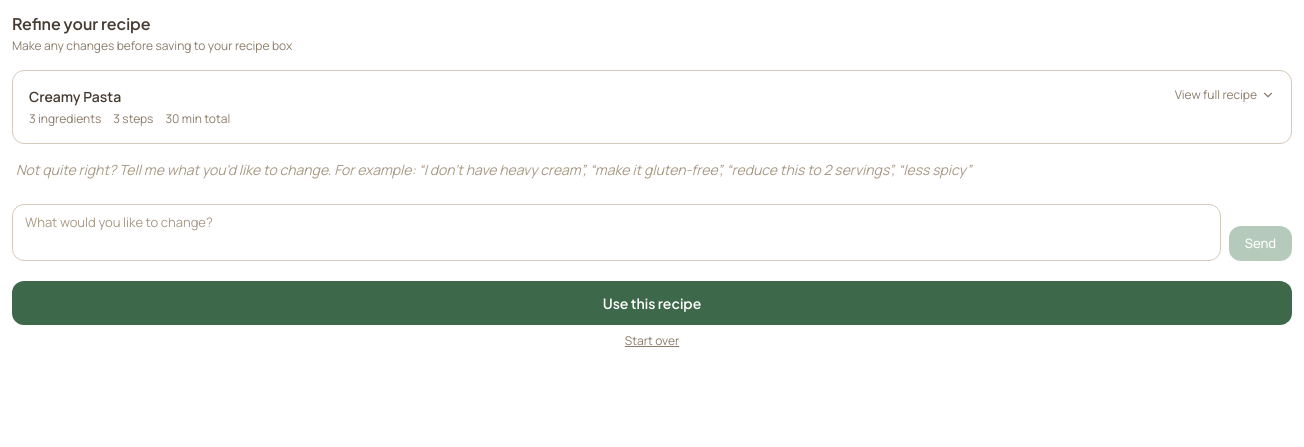
Test: T11 - User message appended to chat before request fires › shows the user message immediately
The width and height of the screenshot is (1304, 447).
Step 1. Type "no cream please" into the text box with placeholder "What would you like to change?" → (616, 232), box 12,204 -> 1221,261
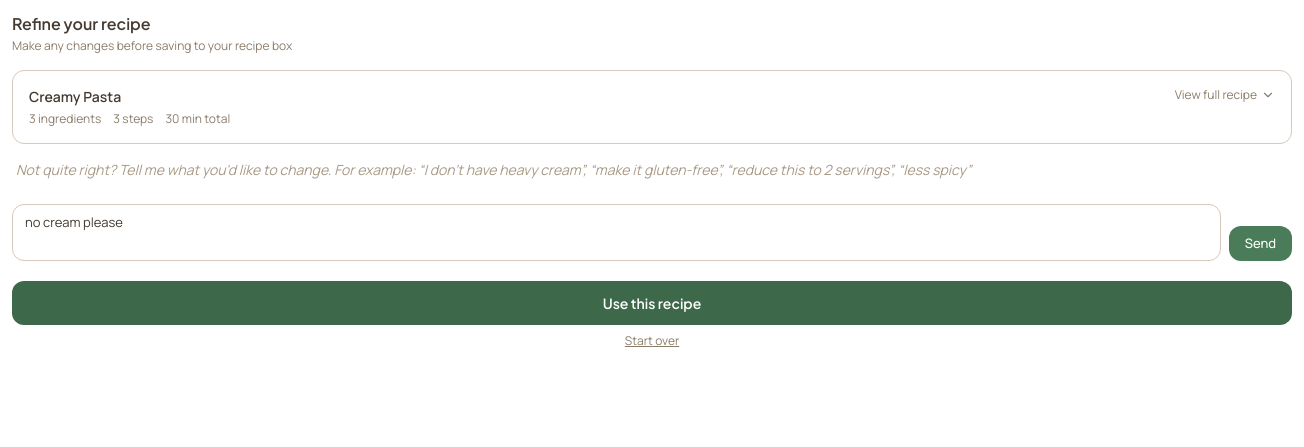
Step 2. Click the button "Send" → (1260, 243), box 1229,226 -> 1292,261
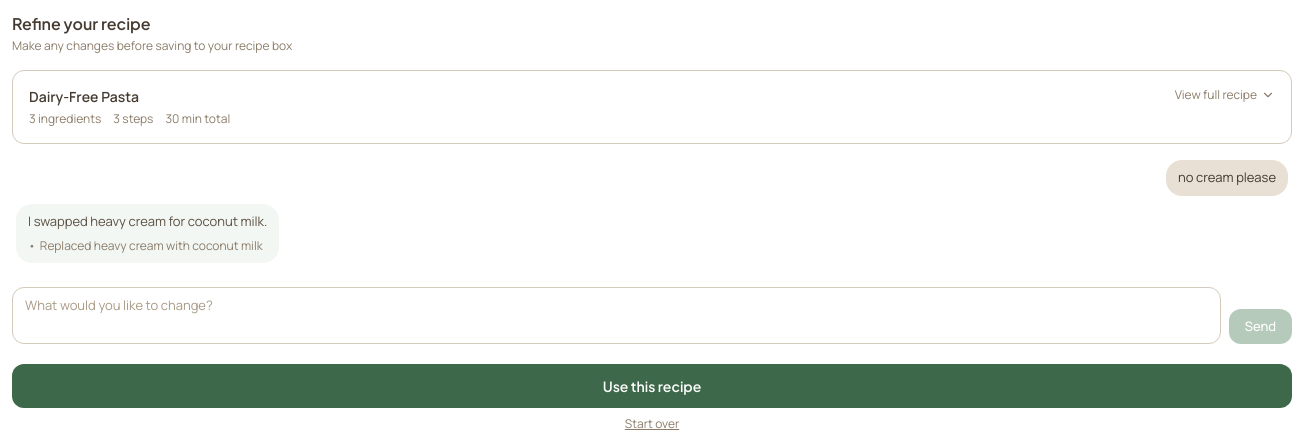
Result: the text "no cream please" is shown at 1178,168 -> 1276,188
